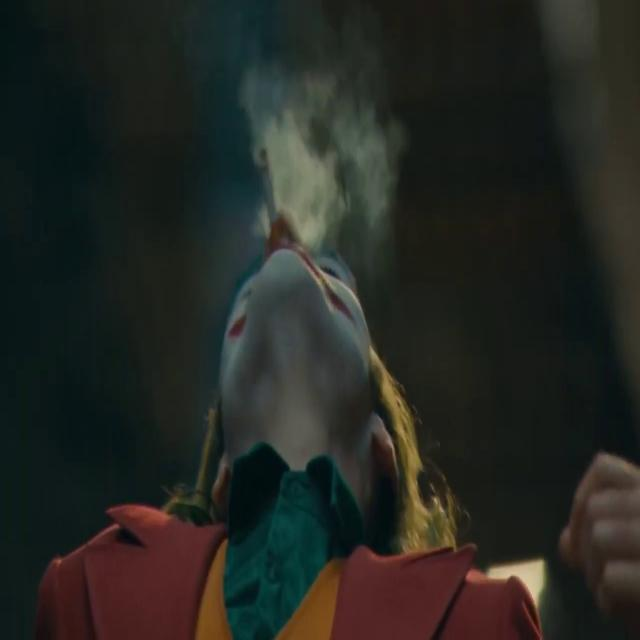Smooking: (252, 141, 292, 231)
